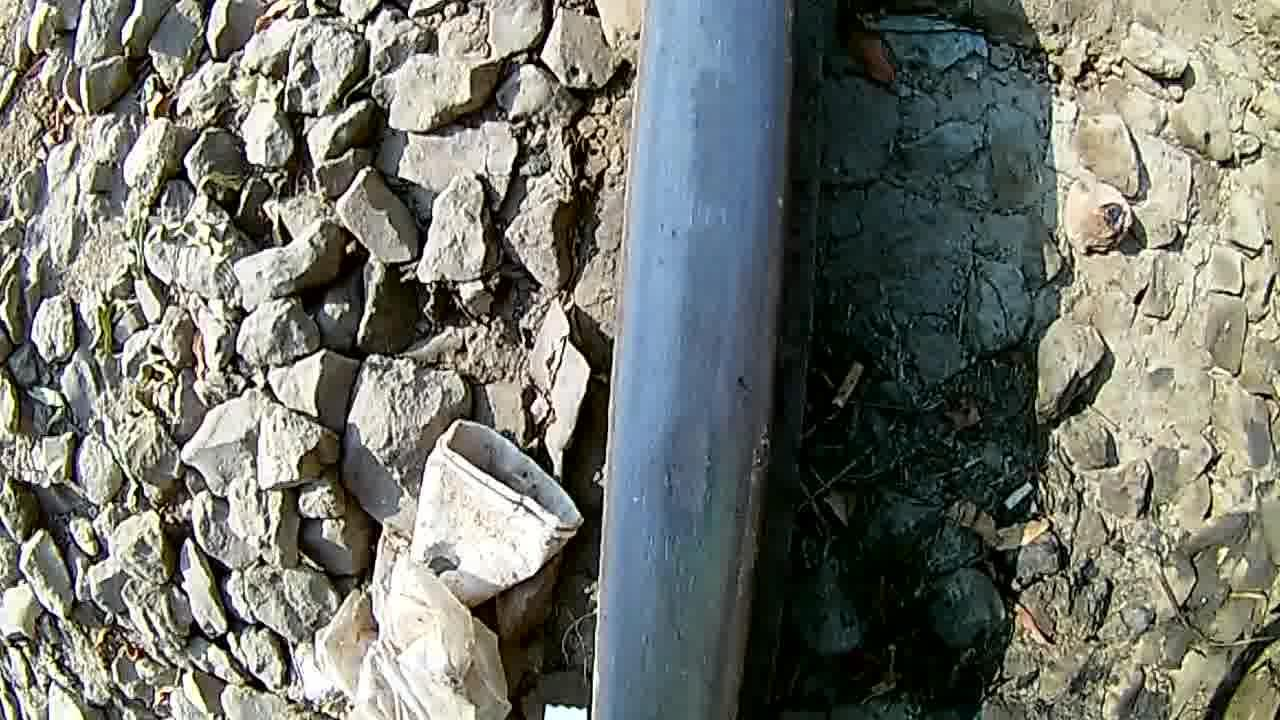bolt_missing: (614, 54, 792, 720)
